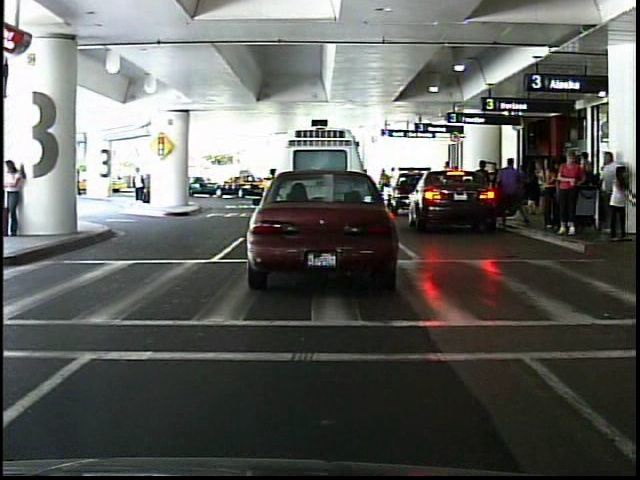person: (554, 147, 588, 241), (5, 156, 30, 240), (126, 161, 156, 209)
